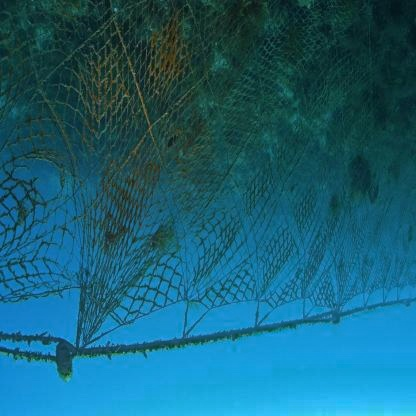net: (3, 0, 416, 352)
